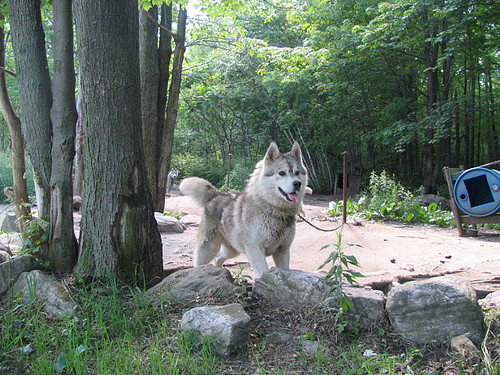dog: (176, 138, 309, 281)
